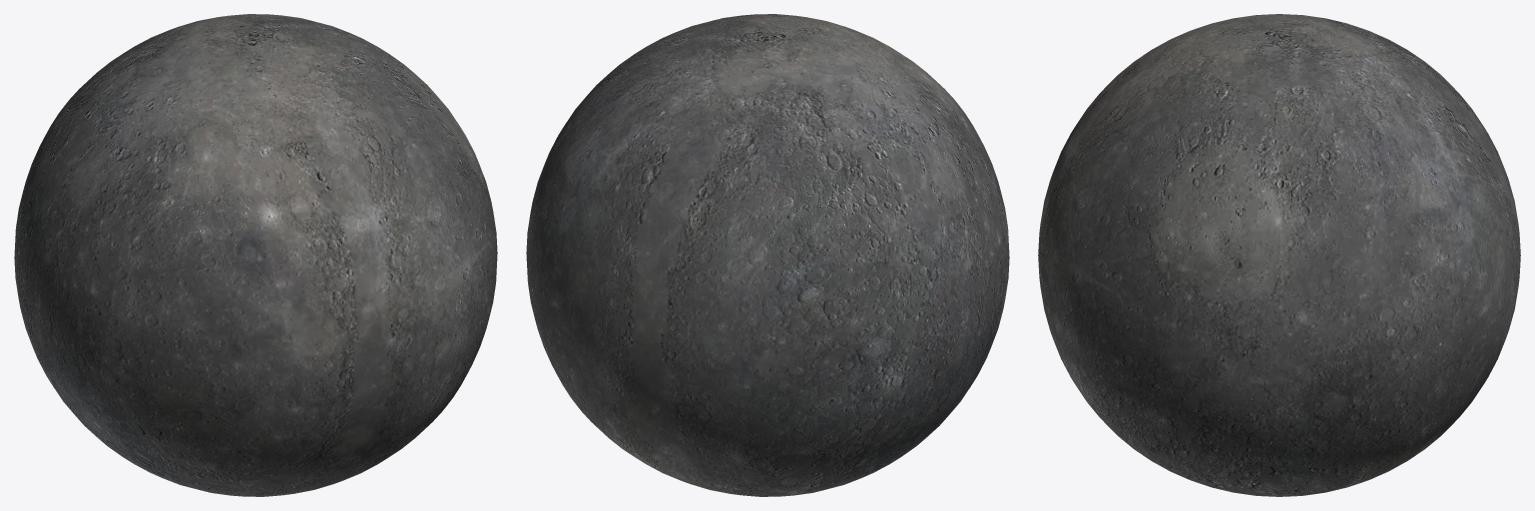
The model's file is nasamercury-transformed.glb.
3 views of the same model, side by side, from view 1: azimuth 30°, elevation 25°; view 2: azimuth 150°, elevation 25°; view 3: azimuth 270°, elevation 25° (orthographic).
Parts seen in each view (by area): view 1: Cube.008; view 2: Cube.008; view 3: Cube.008.
Part boxes in pixels (left/top/right/bottom): Cube.008: left=14, top=14, right=497, bottom=496; Cube.008: left=526, top=14, right=1009, bottom=496; Cube.008: left=1038, top=14, right=1520, bottom=496.
Bounding box in the file's own units: 1000 × 1000 × 1000.
1 material, 1 textured.
